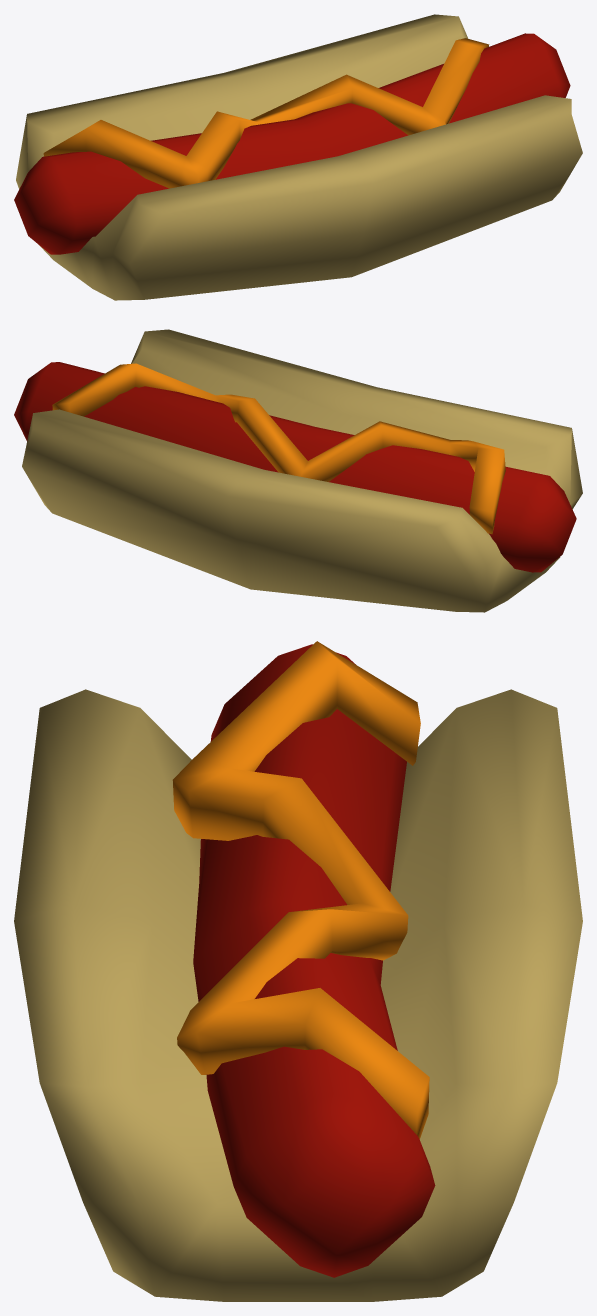
Rendered from sosisli.fbx.
The picture shows the model from 3 angles, top to bottom: view 1: azimuth 30°, elevation 25°; view 2: azimuth 150°, elevation 25°; view 3: azimuth 270°, elevation 25°; orthographic projection. The views are drawn at different scales.
Visible parts, largest first — view 1: sosisli; view 2: sosisli; view 3: sosisli.
Boxes of the visible parts, bbox=[...] form: sosisli: bbox=[14, 14, 582, 300]; sosisli: bbox=[14, 329, 582, 612]; sosisli: bbox=[14, 641, 582, 1301].
Size of the model in its own units: 79.73 by 23.92 by 38.98.
